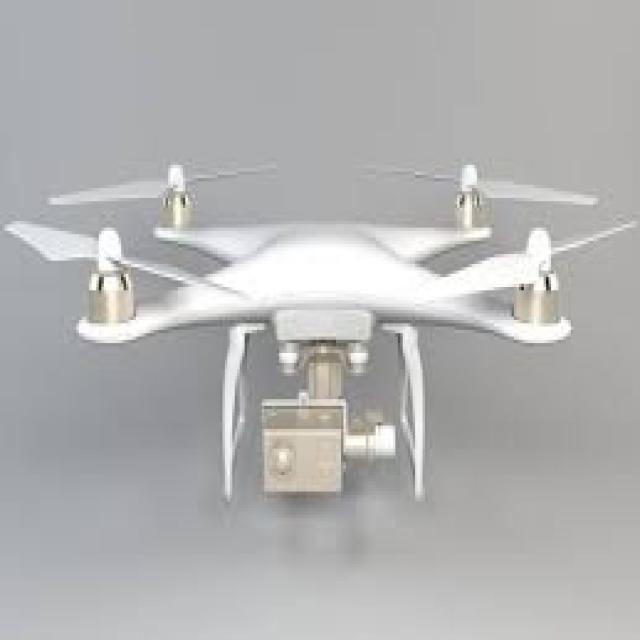drone: (5, 142, 640, 512)
